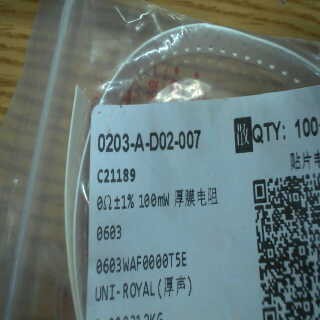0R: (91, 192, 176, 241)
